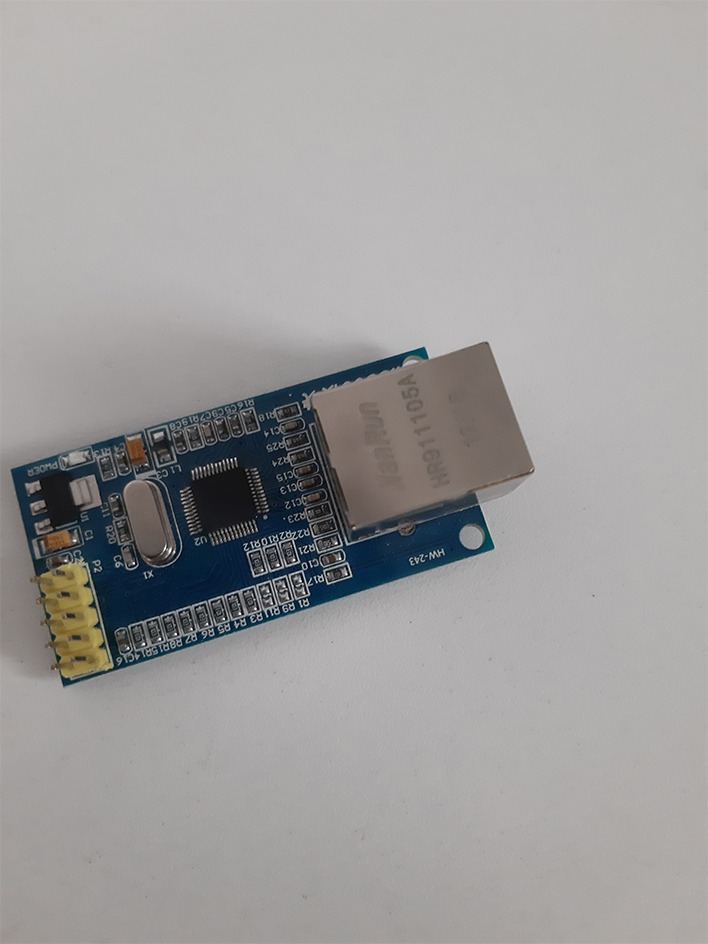Ethernet-W5500: (2, 322, 546, 729)
